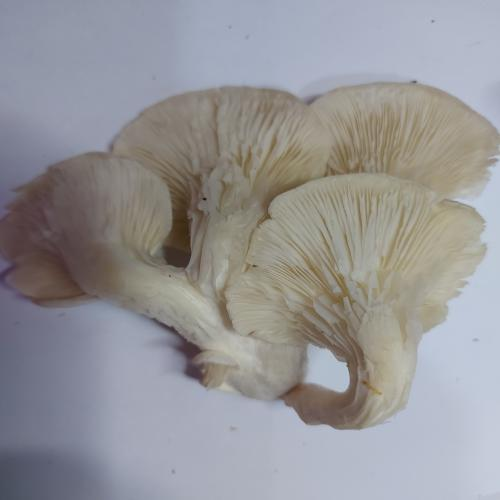Oyster Mushroom: (1, 80, 499, 431)
